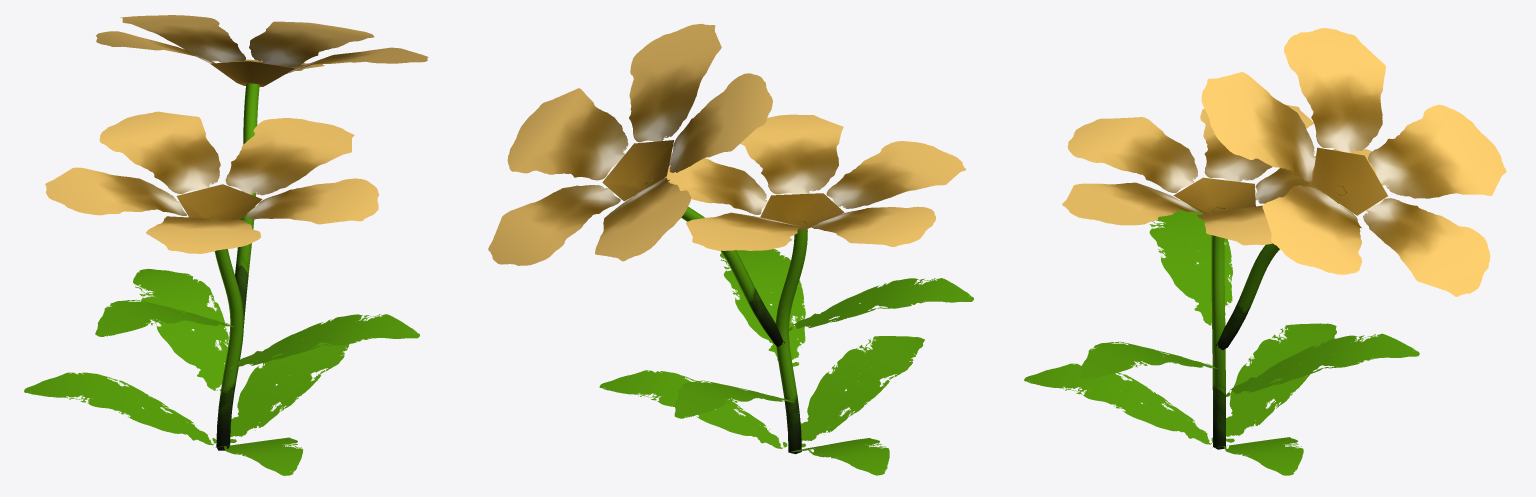
File: flower 2.fbx
3 views of the same model, side by side, from view 1: azimuth 30°, elevation 25°; view 2: azimuth 150°, elevation 25°; view 3: azimuth 270°, elevation 25° (orthographic). The views are drawn at different scales.
Visible parts, largest first — view 1: flower 2; view 2: flower 2; view 3: flower 2.
Part boxes in pixels (<box>): flower 2: <box>24,15,428,475</box>; flower 2: <box>488,23,973,475</box>; flower 2: <box>1024,28,1506,475</box>.
Bounding box in the file's own units: 210 × 196 × 216.
